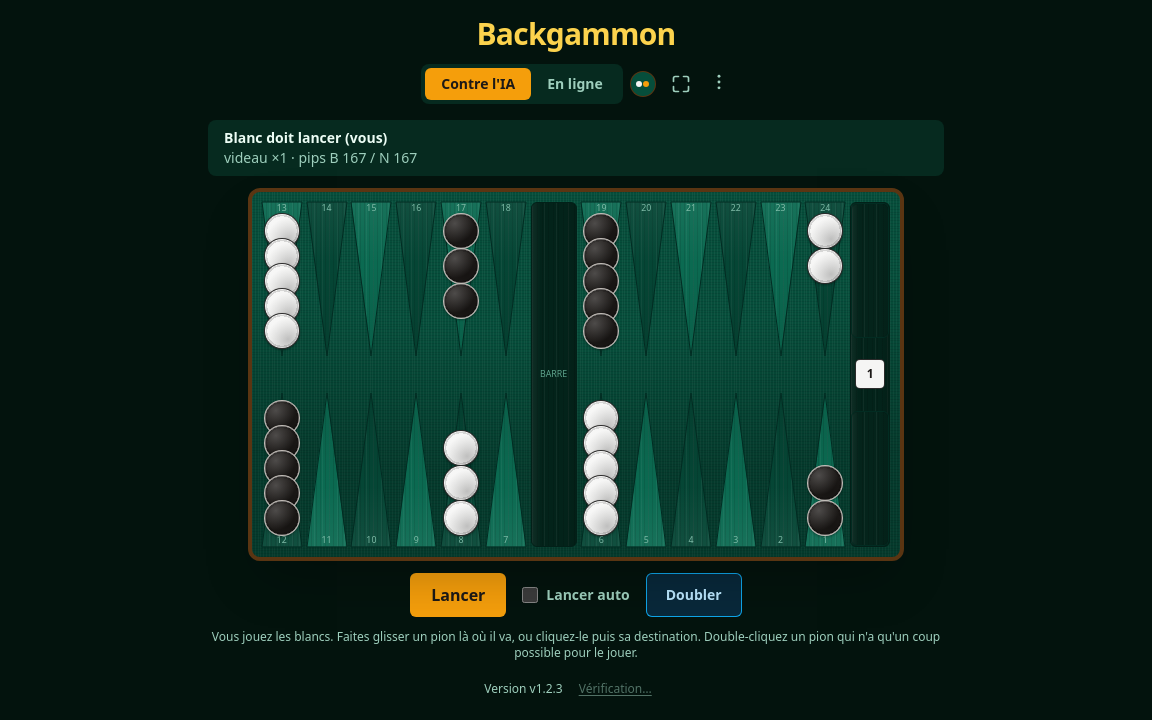
the fullscreen layout › puts everything back when fullscreen is left
Click the button named "Plein écran".
click(681, 84)  # box [663,66,699,102]
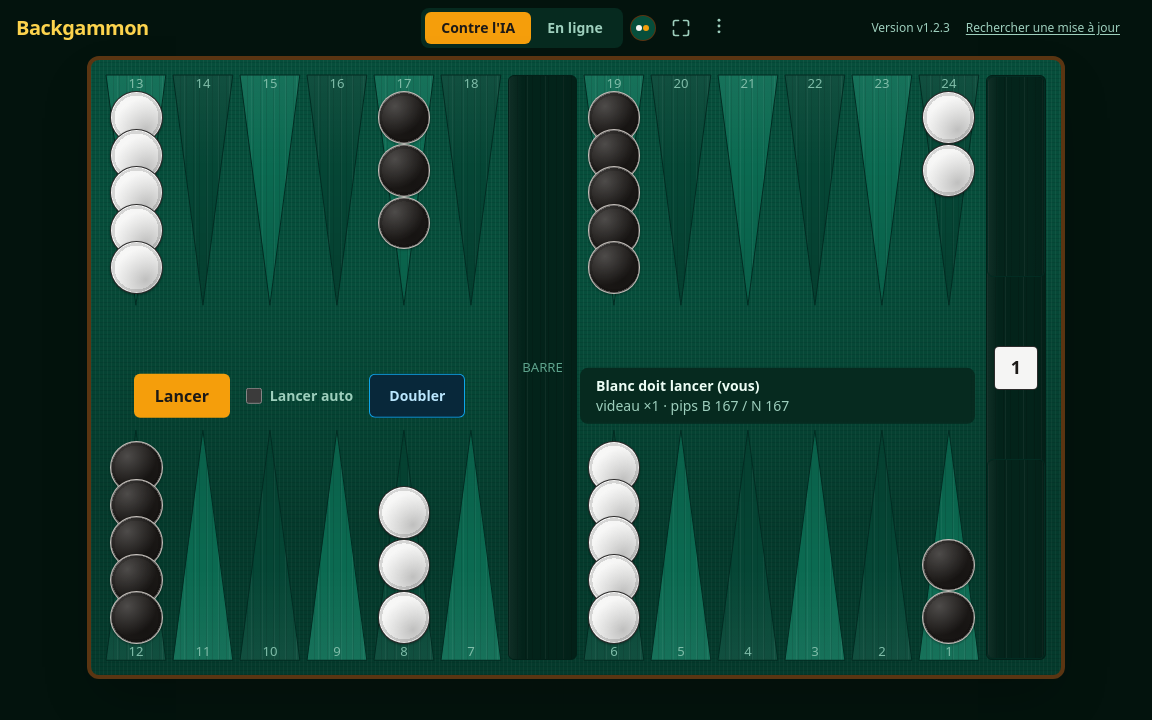
Click the button named "Quitter le plein écran".
click(681, 28)  # box [663,10,699,46]
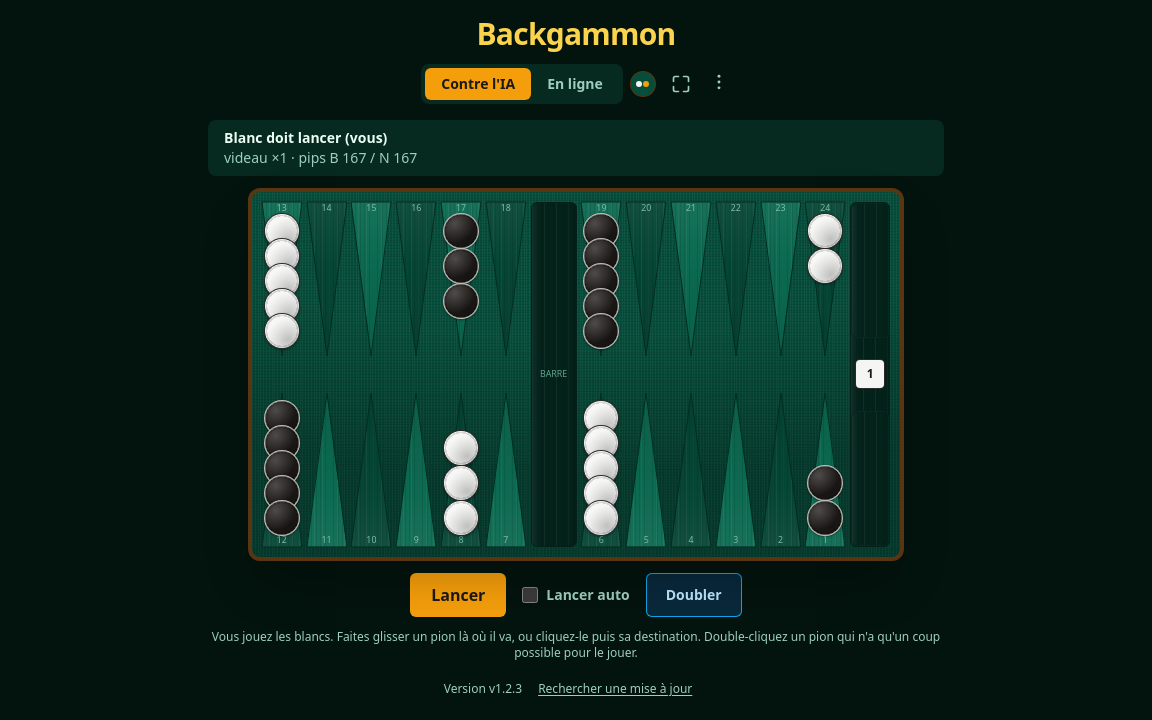
Check: the number of elements with test id "app-version" is 1, box [444,681,522,697]
Check: the text "Faites glisser un pion" is shown, box [330,628,701,645]
